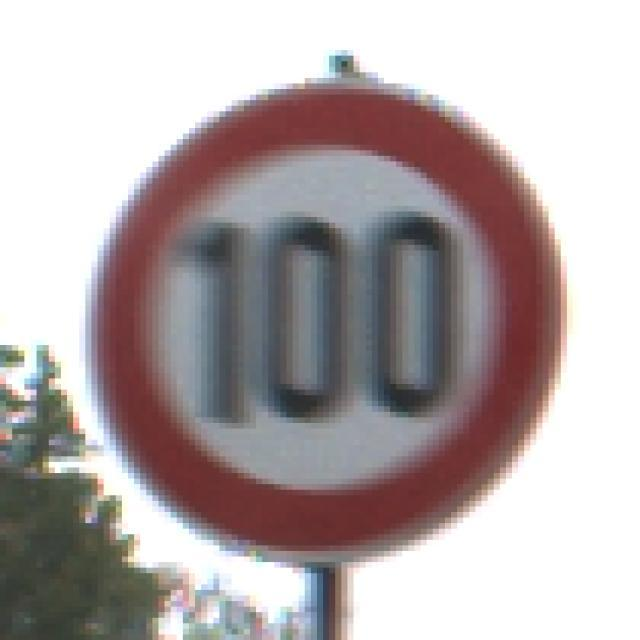speed limit 100: (82, 69, 560, 572)
